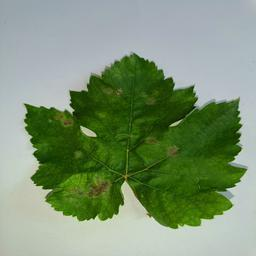Powdery-Mildew: (64, 167, 112, 206), (97, 83, 128, 102), (56, 112, 76, 127), (147, 132, 164, 149), (142, 90, 158, 107), (167, 144, 183, 160)
